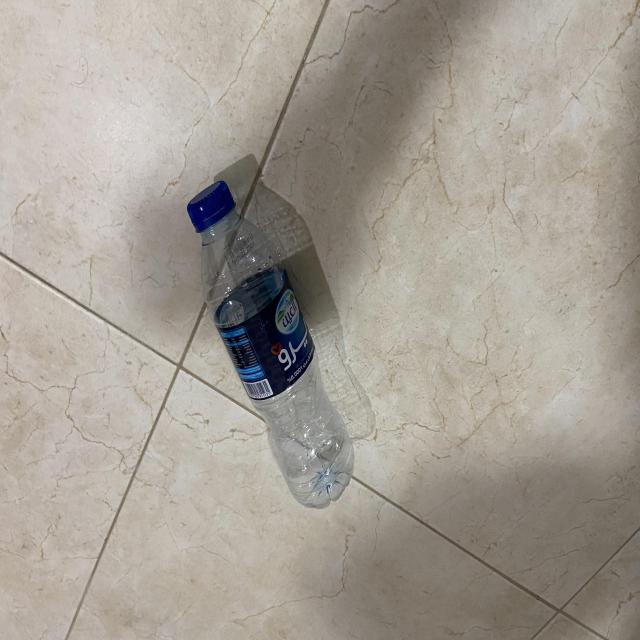bottle: (178, 176, 366, 528)
